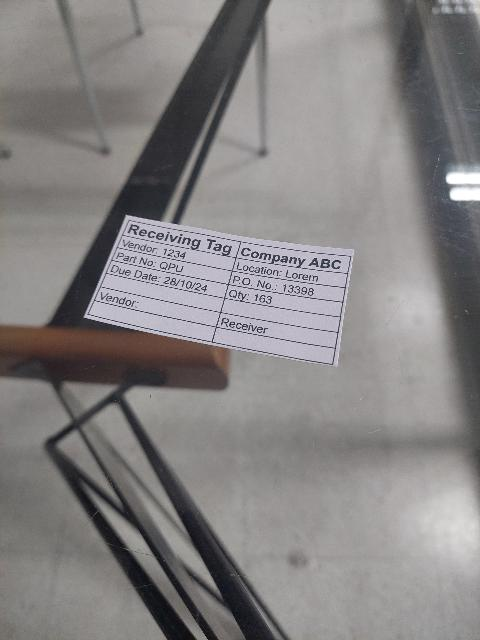PO no: (229, 270, 345, 303)
part no: (112, 247, 233, 285)
qty: (224, 285, 343, 317)
tags: (82, 216, 355, 369)
